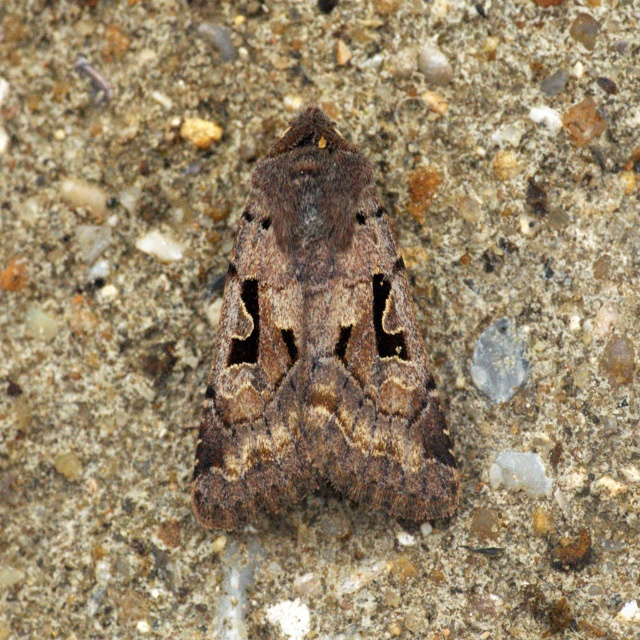Moths and butterflies: (188, 84, 470, 526)
